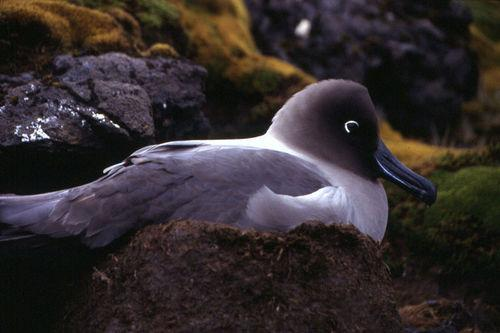003.Sooty_Albatross: (5, 78, 437, 263)
